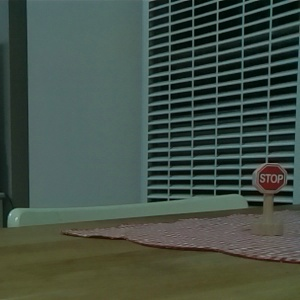stop sign: (250, 160, 288, 238)
